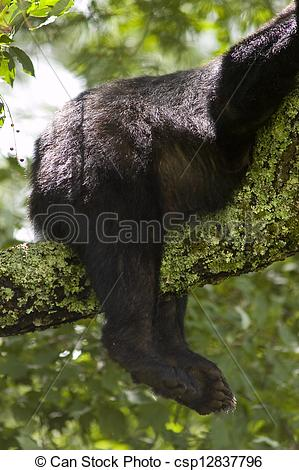bear: (30, 5, 298, 414)
